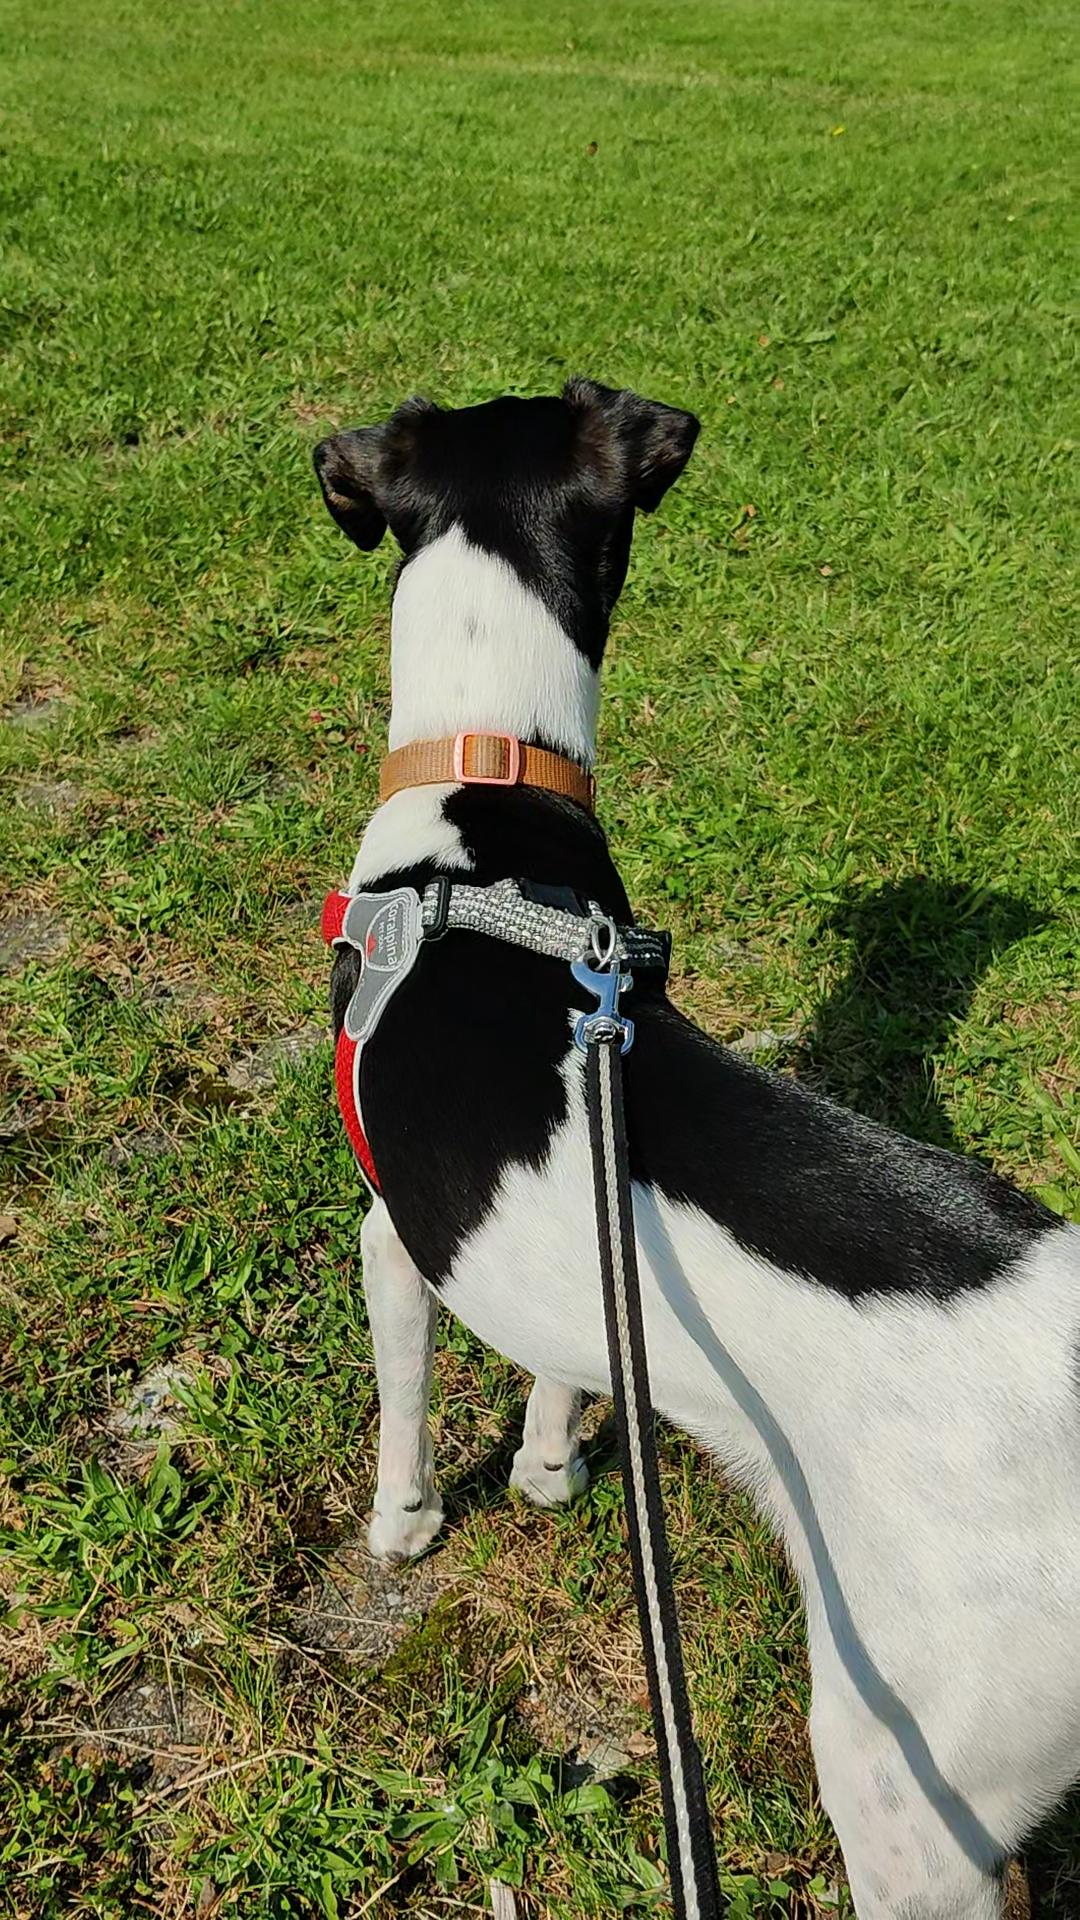Dog: (301, 367, 1079, 1919)
